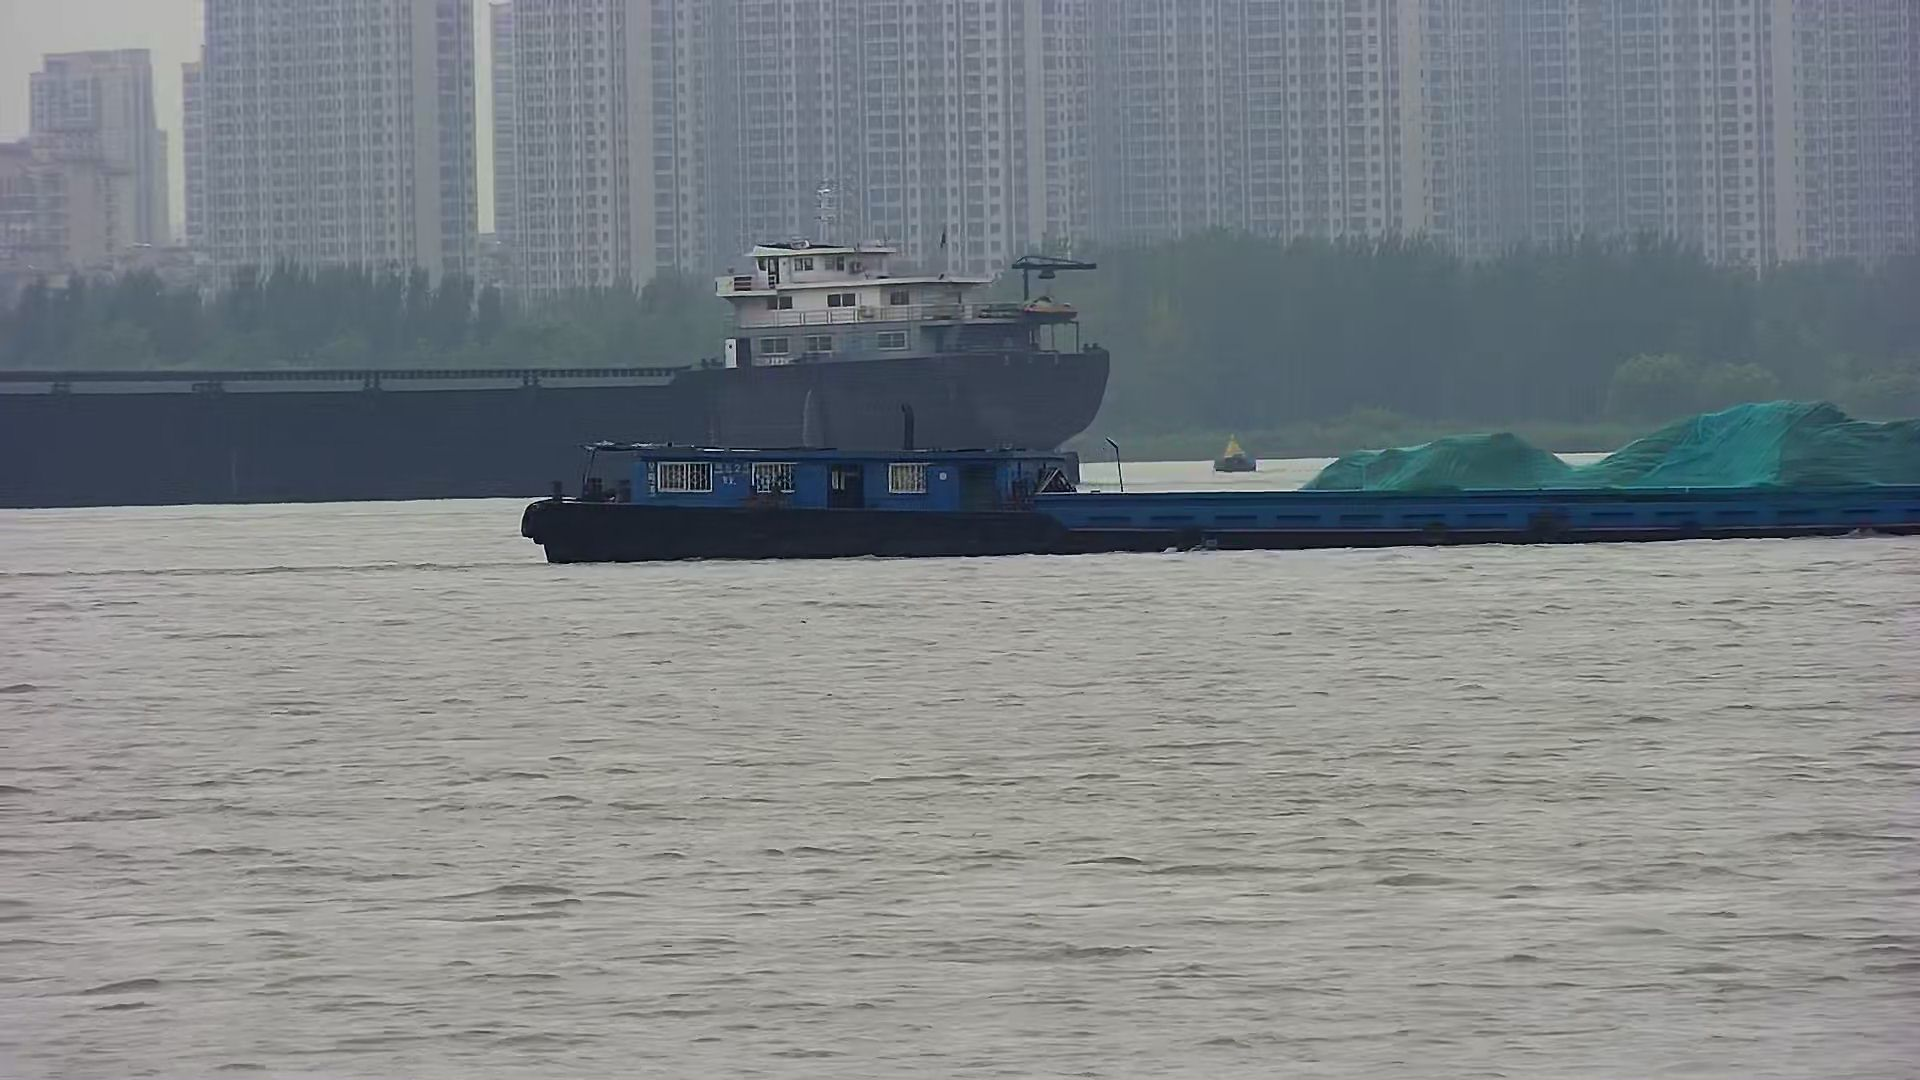boat: (1215, 433, 1258, 471)
ship: (3, 225, 1116, 509), (517, 400, 1920, 563)
